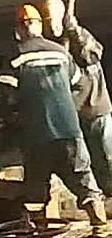helmet: (39, 0, 65, 23), (15, 5, 41, 24)
vest: (5, 39, 82, 144)
